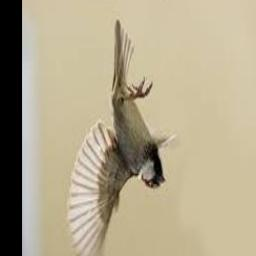Sparrow: (68, 21, 175, 256)
